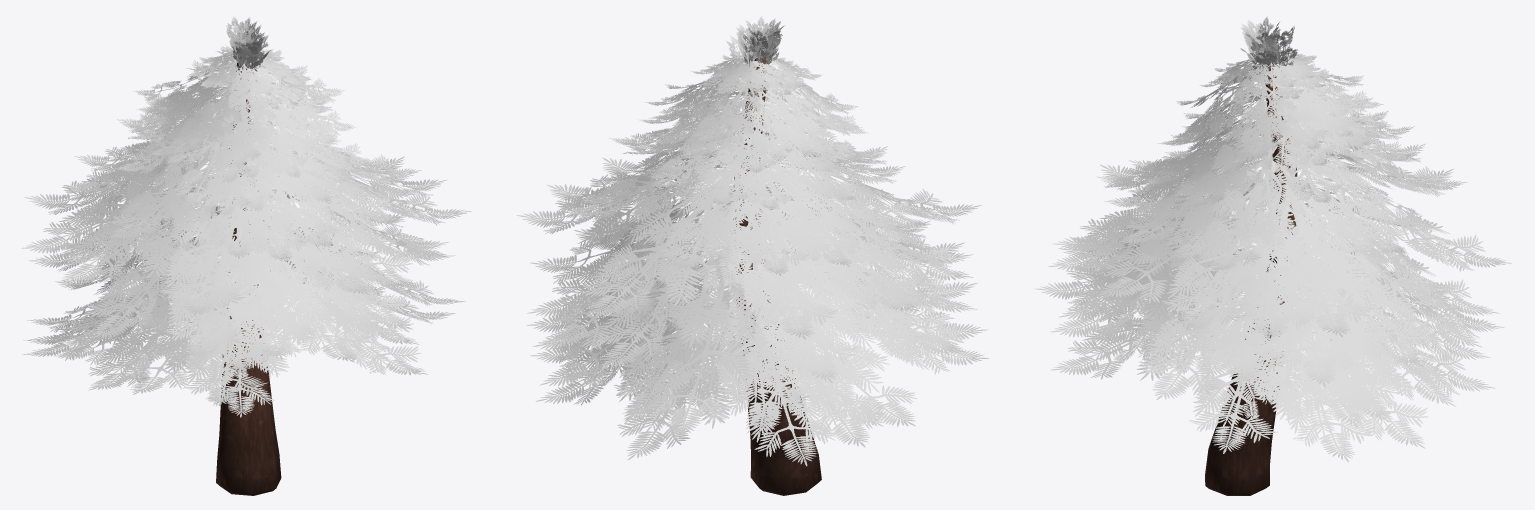
File: Tree.fbx
3 views of the same model, side by side, from view 1: azimuth 30°, elevation 25°; view 2: azimuth 150°, elevation 25°; view 3: azimuth 270°, elevation 25° (orthographic). The views are drawn at different scales.
Parts seen in each view (by area): view 1: High.001; view 2: High.001; view 3: High.001.
Boxes of the visible parts, x1,y1,x2,y2 form: High.001: (21,16,471,495); High.001: (516,16,989,495); High.001: (1034,16,1511,495).
Size of the model in its own units: 3.52 by 3.67 by 3.51.
